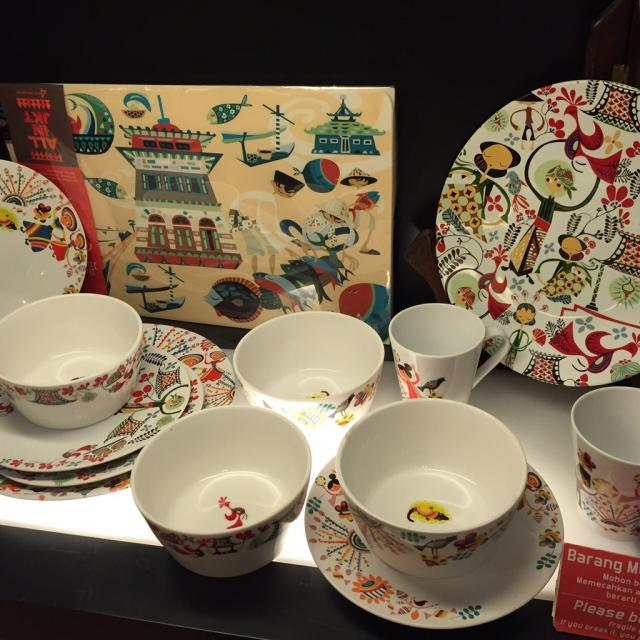non-organic waste: (7, 294, 245, 494), (311, 425, 548, 625), (135, 397, 291, 576)
